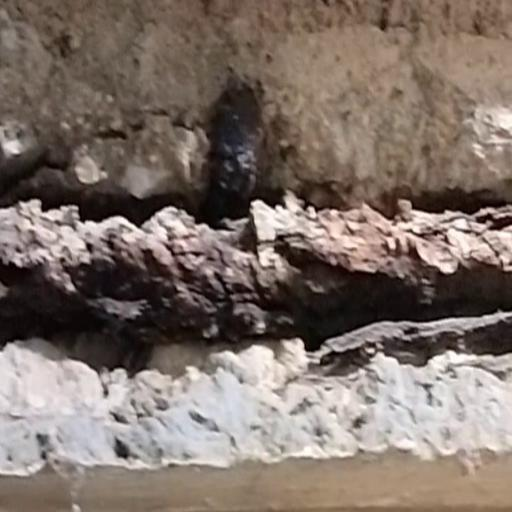spalling: (0, 0, 512, 455)
